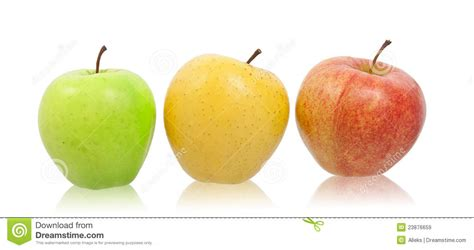apple: (292, 52, 432, 181), (160, 53, 293, 186), (37, 62, 160, 192)
